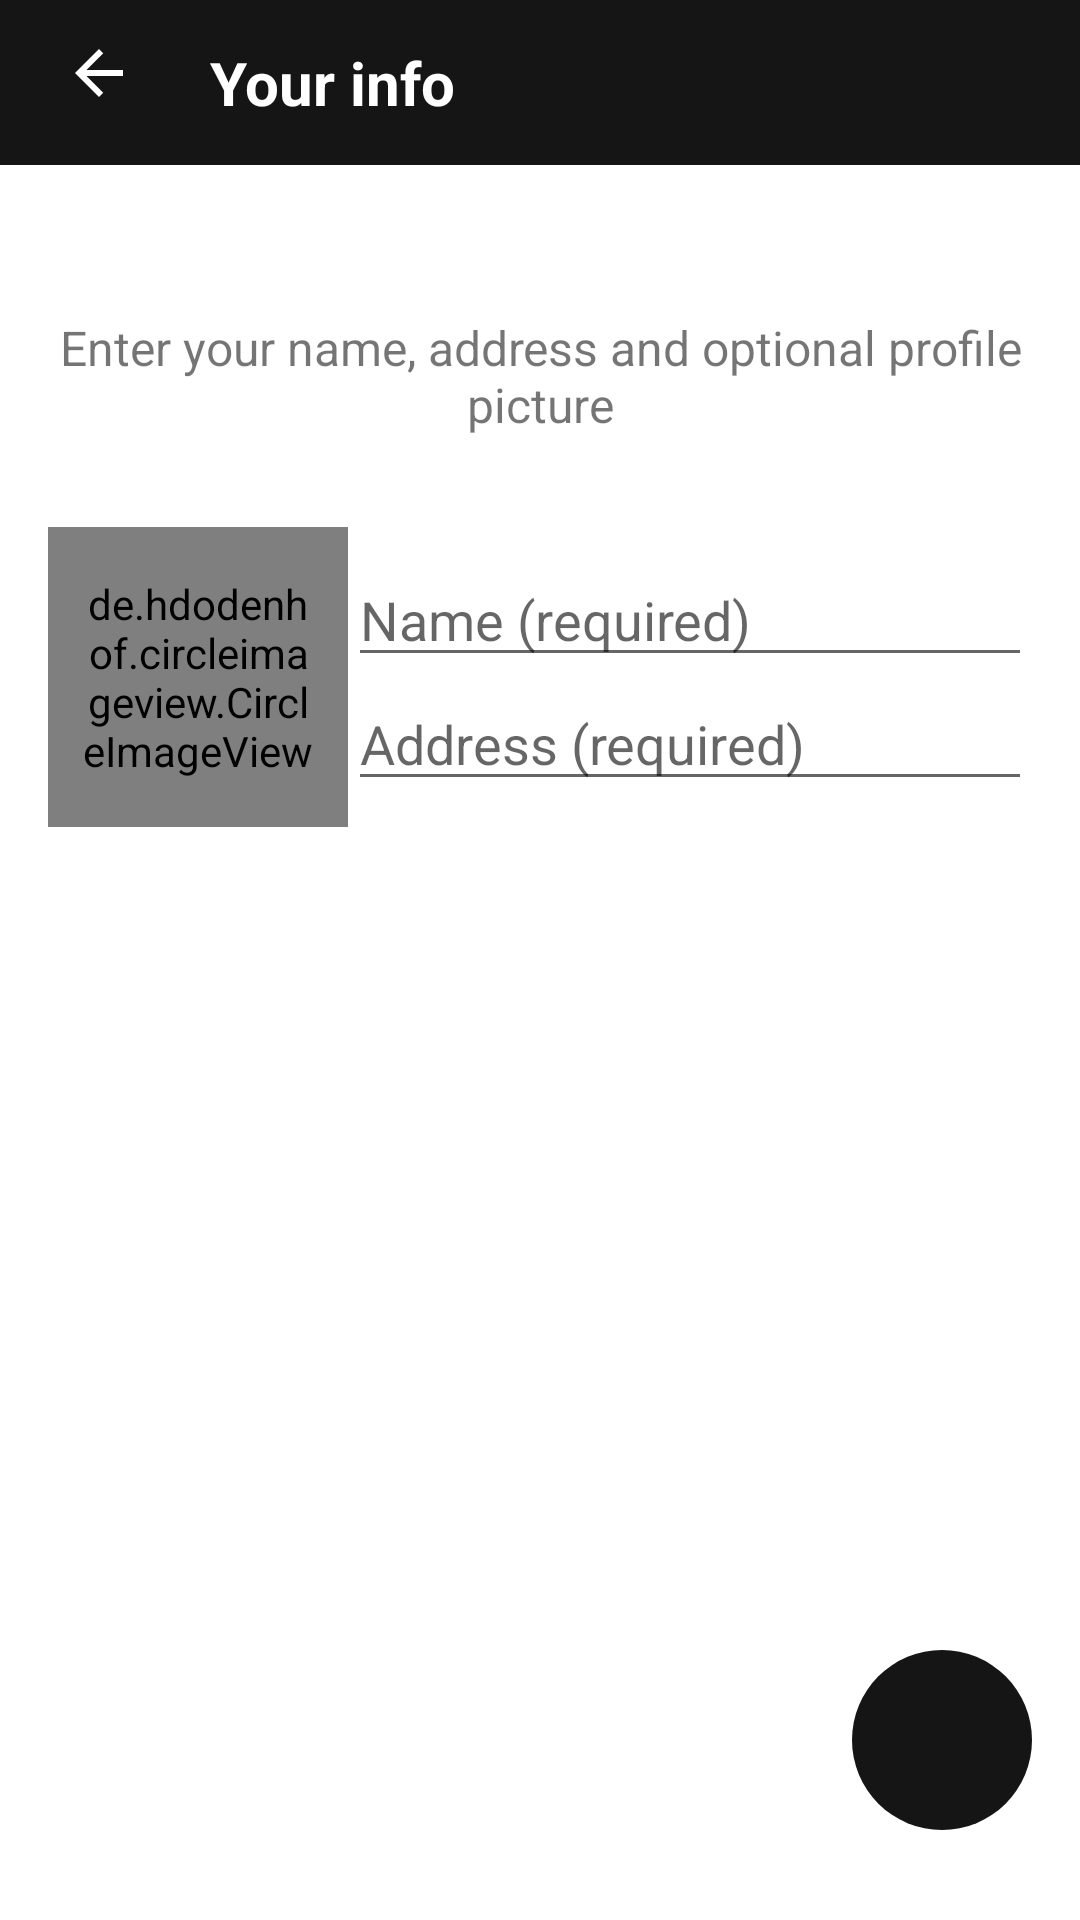

Where to tap for icons on this 1080 × 1920 app screen, as (x,y):
arrow back: (99,73)
